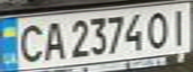2: (66, 16, 90, 60)
3: (87, 15, 109, 56)
4: (124, 10, 148, 52)
7: (106, 12, 127, 55)
A: (39, 18, 69, 62)
C: (12, 20, 48, 63)
I: (166, 4, 193, 46)
O: (142, 8, 172, 50)
